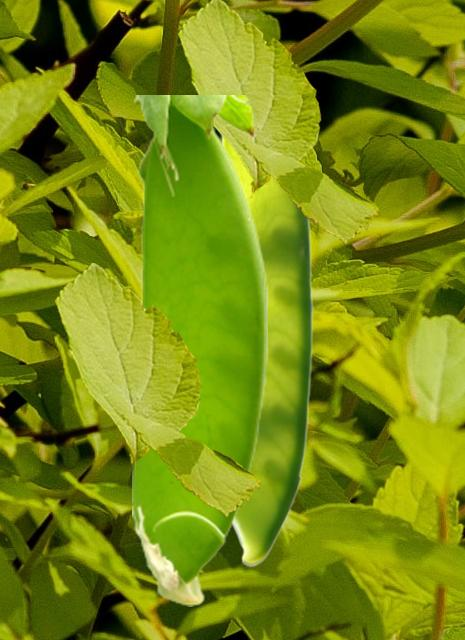pea: (132, 95, 266, 605), (219, 134, 313, 566)
